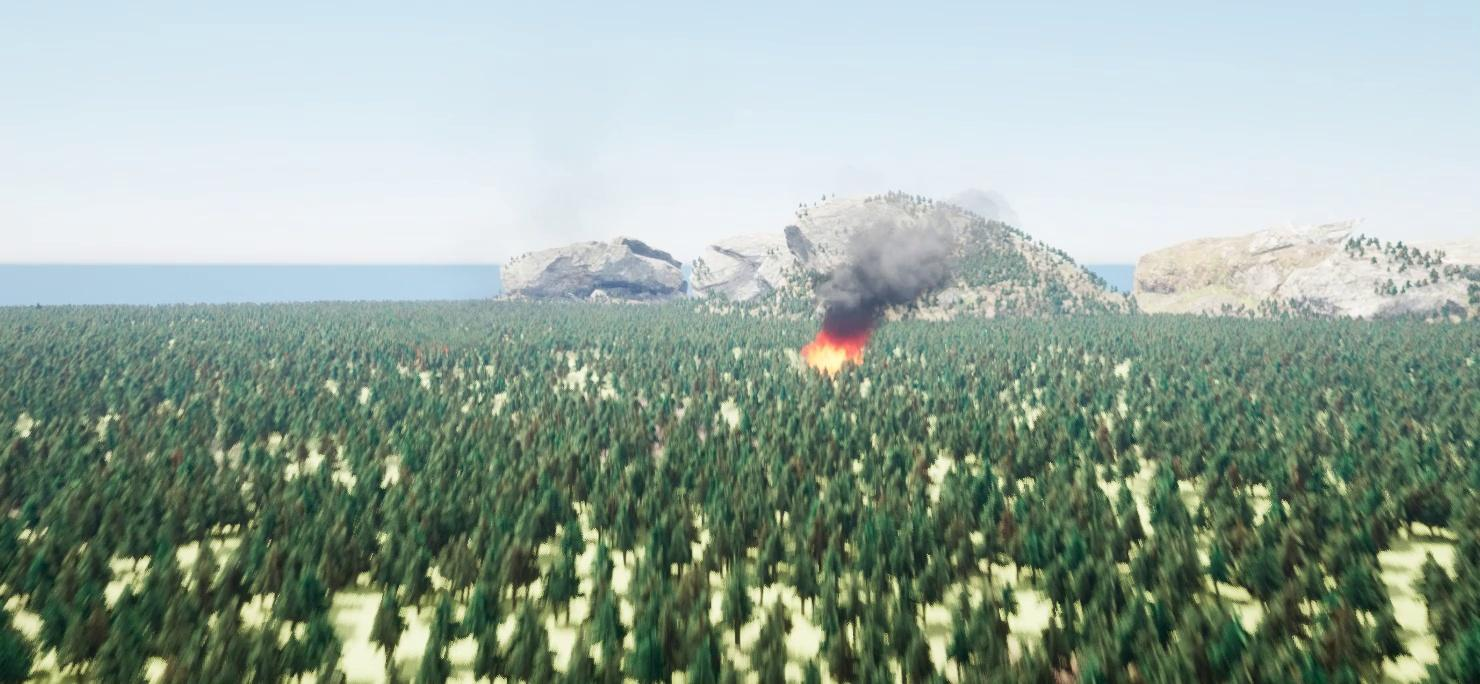fire: (797, 333, 867, 364)
smoke: (808, 187, 1007, 325)
